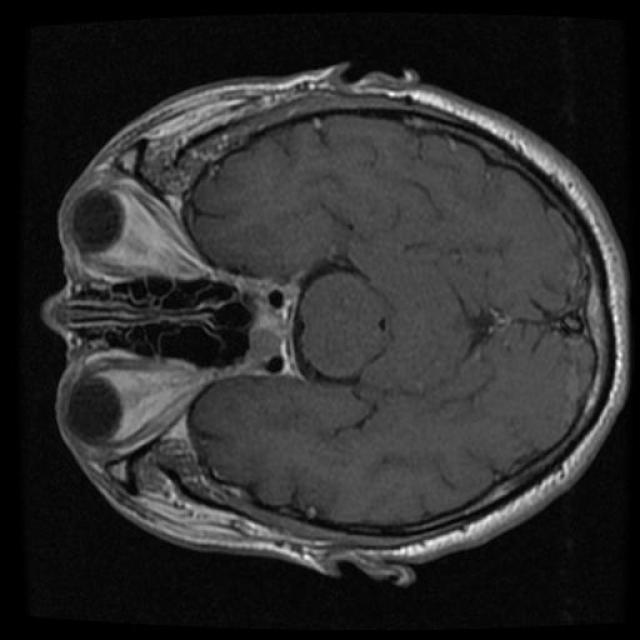Pituitary: (236, 283, 294, 372)
